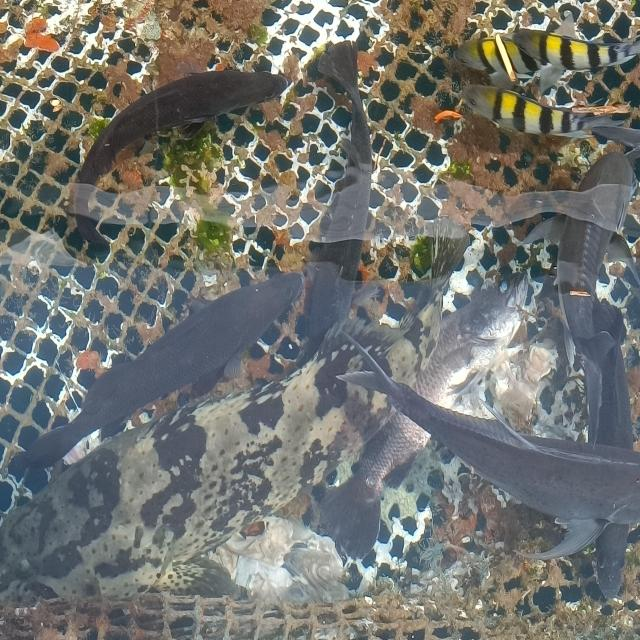ikan: (332, 332, 640, 600), (6, 268, 306, 478), (65, 66, 292, 252), (542, 150, 639, 352), (452, 20, 639, 92), (458, 82, 631, 142)
